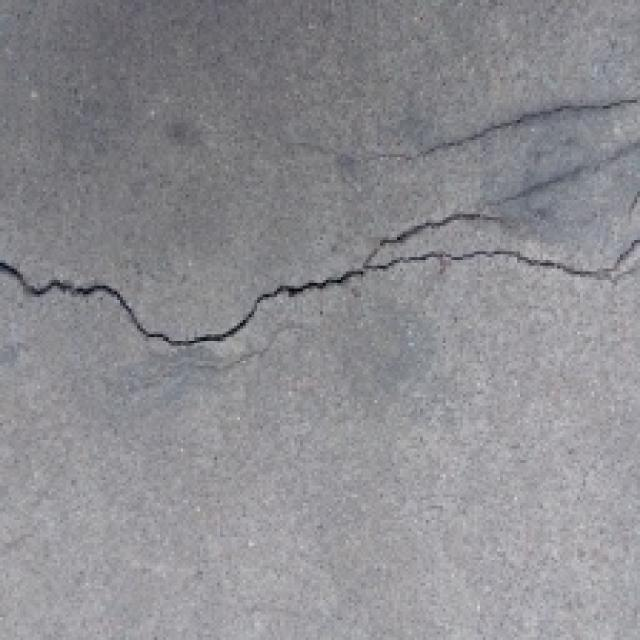crack: (0, 164, 640, 406)
